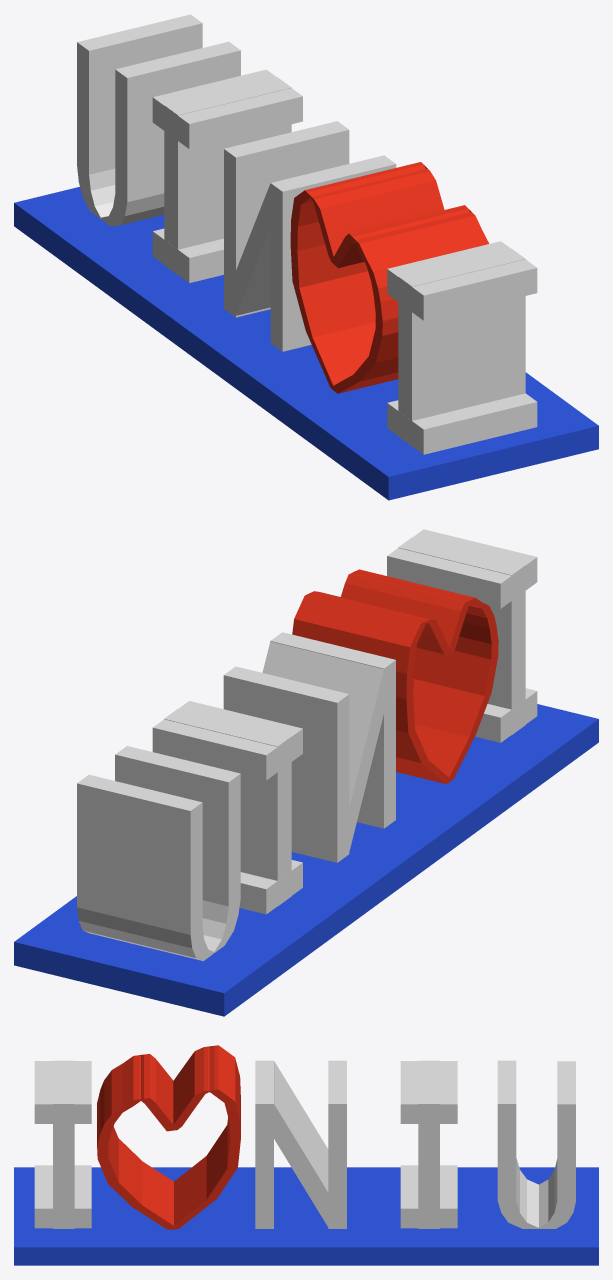
File: I love niu.fbx
3 renders of one model, top to bottom at view 1: azimuth 30°, elevation 25°; view 2: azimuth 150°, elevation 25°; view 3: azimuth 270°, elevation 25°, orthographic. The views are drawn at different scales.
Parts seen in each view (by area): view 1: Cube.005, Cube.011, Cube.004, Cube, Cube.002, Cube.003, Cube.006, Cube.008, Cube.001, Cube.007, Cube.010, Cube.009; view 2: Cube.005, Cube.004, Cube.011, Cube.002, Cube.010, Cube.003, Cube.008, Cube.006, Cube, Cube.001, Cube.009, Cube.007; view 3: Cube.005, Cube.011, Cube.004, Cube.010, Cube, Cube.003, Cube.001, Cube.002, Cube.007, Cube.009, Cube.006, Cube.008.
Part boxes in pixels (x1,y1,x2,y2): Cube.005: [14, 186, 598, 500]; Cube.011: [290, 162, 489, 393]; Cube.004: [77, 14, 240, 226]; Cube: [398, 248, 525, 446]; Cube.002: [224, 121, 349, 317]; Cube.003: [164, 77, 291, 274]; Cube.006: [387, 241, 537, 320]; Cube.008: [152, 69, 302, 148]; Cube.001: [270, 155, 396, 351]; Cube.007: [387, 393, 537, 454]; Cube.010: [225, 183, 280, 316]; Cube.009: [152, 228, 223, 282]; Cube.005: [14, 704, 598, 1016]; Cube.004: [77, 746, 240, 960]; Cube.011: [292, 569, 498, 783]; Cube.002: [223, 666, 349, 862]; Cube.010: [262, 641, 391, 853]; Cube.003: [164, 708, 291, 906]; Cube.008: [152, 701, 302, 780]; Cube.006: [387, 529, 537, 608]; Cube: [398, 537, 525, 735]; Cube.001: [270, 632, 395, 828]; Cube.009: [239, 860, 302, 914]; Cube.007: [475, 688, 537, 742]; Cube.005: [14, 1167, 598, 1265]; Cube.011: [97, 1045, 240, 1229]; Cube.004: [497, 1060, 575, 1228]; Cube.010: [258, 1061, 344, 1226]; Cube: [53, 1060, 74, 1228]; Cube.003: [418, 1060, 439, 1228]; Cube.001: [255, 1060, 273, 1228]; Cube.002: [328, 1060, 346, 1228]; Cube.007: [34, 1165, 91, 1228]; Cube.009: [400, 1165, 457, 1228]; Cube.006: [34, 1061, 91, 1123]; Cube.008: [400, 1061, 457, 1123].
Size of the model in its own units: 200 by 184 by 617.
